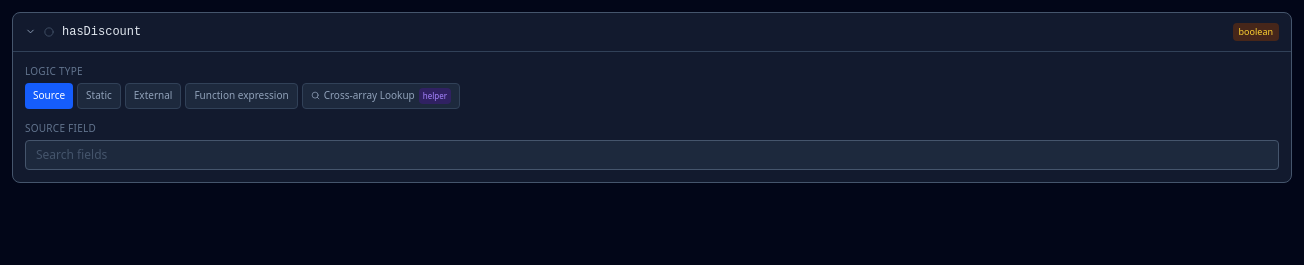
Test: ItemFieldRow — FS-052 T-04 SourceFieldOptionRow › renders type badge (str) for string-typed item field in dropdown
Click the field with test id "field-search-hasDiscount" at (652, 154), box [25,140,1279,170]
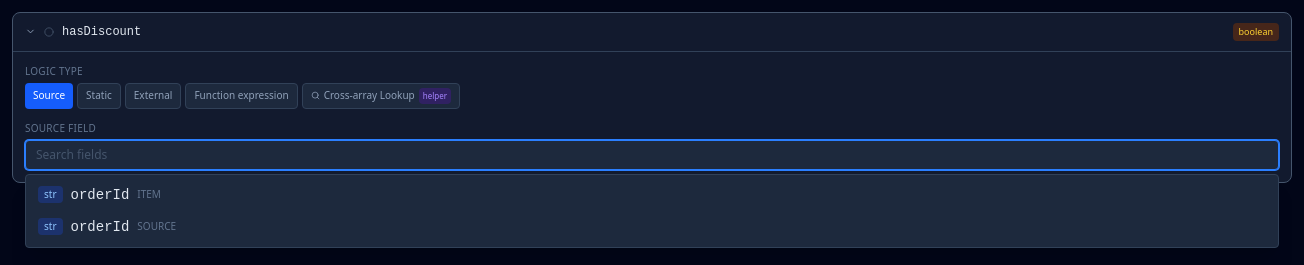
Expected: the 1st text "str" is shown, [38,186,62,203]
